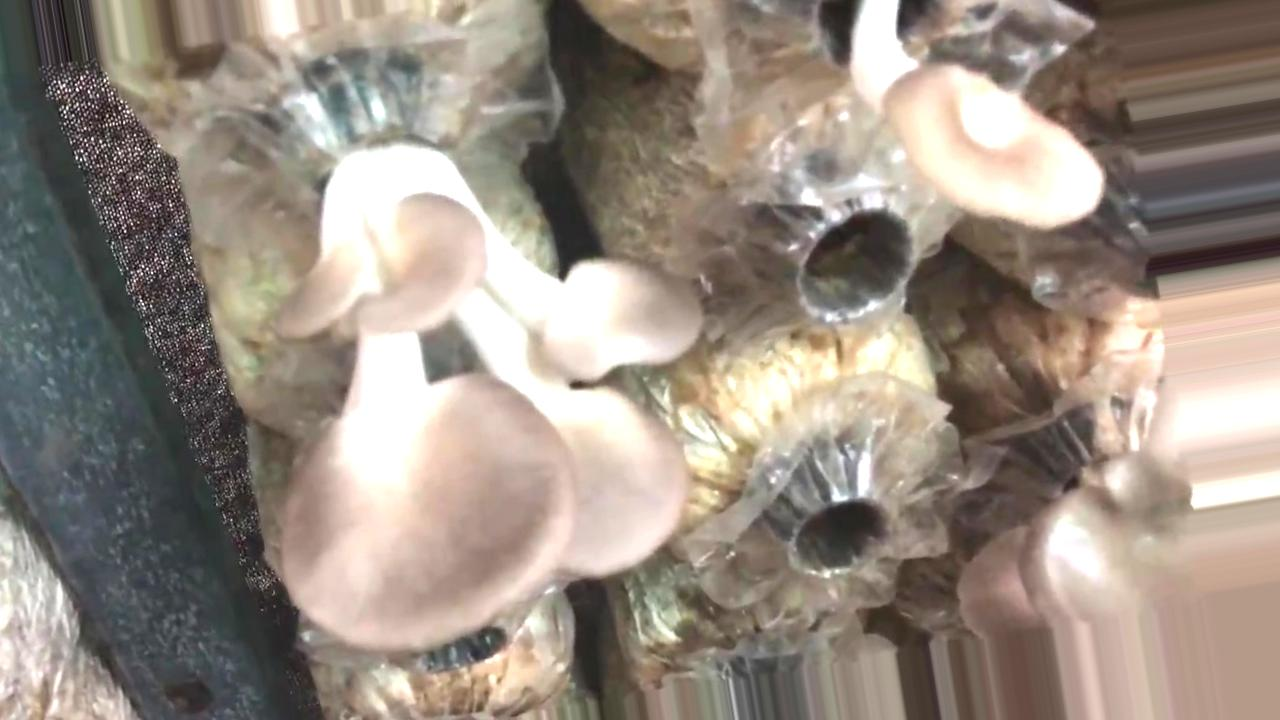nam: (277, 77, 706, 646), (806, 1, 1105, 230)
